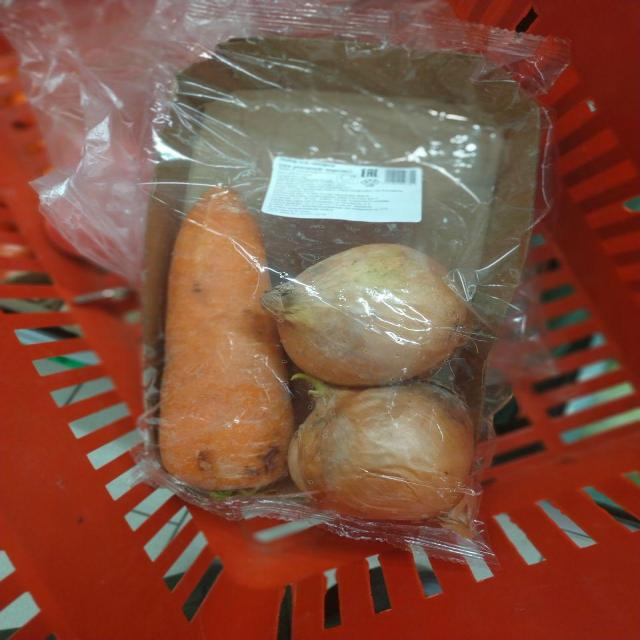carrot: (139, 237, 434, 640)
